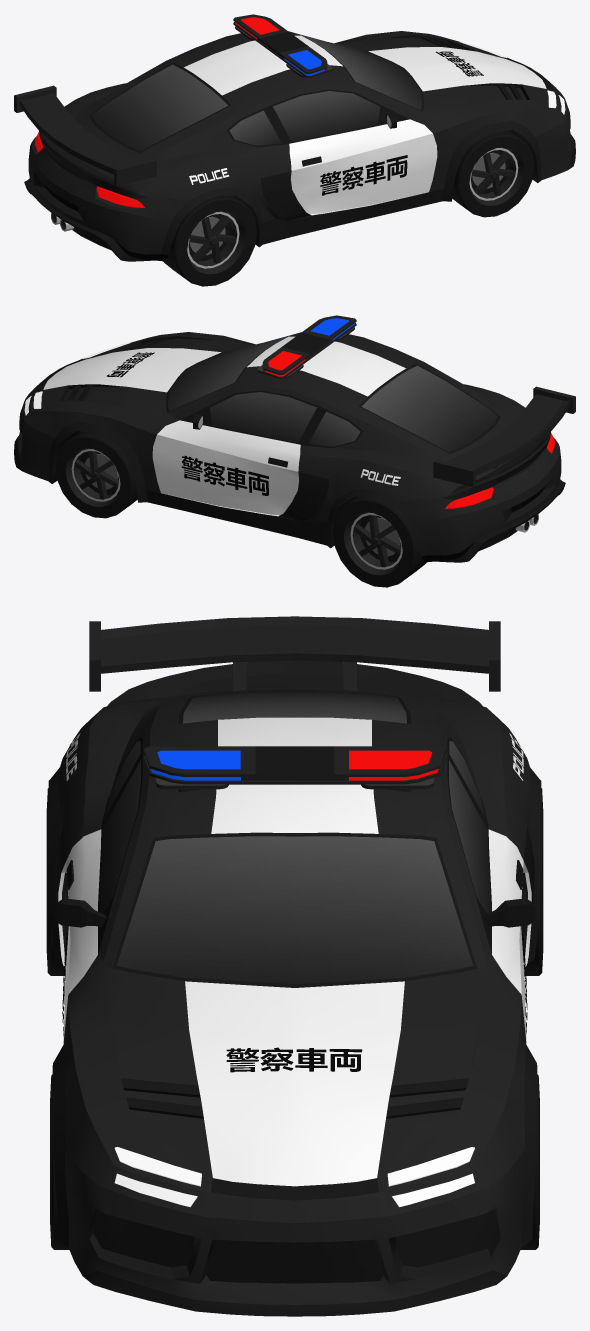
The model's file is Emergency_029.glb.
3 renders of one model, top to bottom at view 1: azimuth 30°, elevation 25°; view 2: azimuth 150°, elevation 25°; view 3: azimuth 270°, elevation 25°, orthographic. The views are drawn at different scales.
Parts seen in each view (by area): view 1: Emergency_029, wheel_3_Emergency_029_Wheel_2R, wheel_1_Emergency_029_Wheel_1R; view 2: Emergency_029, wheel_2_Emergency_029_Wheel_2L, wheel_0_Emergency_029_Wheel_1L; view 3: Emergency_029, wheel_3_Emergency_029_Wheel_2R, wheel_2_Emergency_029_Wheel_2L, wheel_0_Emergency_029_Wheel_1L, wheel_1_Emergency_029_Wheel_1R.
Boxes of the visible parts, x1=… form: Emergency_029: x1=14, y1=14, x2=575, y2=261; wheel_3_Emergency_029_Wheel_2R: x1=163, y1=195, x2=256, y2=286; wheel_1_Emergency_029_Wheel_1R: x1=452, y1=130, x2=534, y2=217; Emergency_029: x1=14, y1=315, x2=575, y2=562; wheel_2_Emergency_029_Wheel_2L: x1=333, y1=496, x2=426, y2=587; wheel_0_Emergency_029_Wheel_1L: x1=55, y1=431, x2=137, y2=518; Emergency_029: x1=48, y1=616, x2=541, y2=1316; wheel_3_Emergency_029_Wheel_2R: x1=46, y1=788, x2=65, y2=975; wheel_2_Emergency_029_Wheel_2L: x1=525, y1=788, x2=543, y2=975; wheel_0_Emergency_029_Wheel_1L: x1=520, y1=1074, x2=539, y2=1249; wheel_1_Emergency_029_Wheel_1R: x1=50, y1=1074, x2=69, y2=1249.
Size of the model in its own units: 4.67 by 1.48 by 1.99.
Materials: 3 (3 with a texture image).
